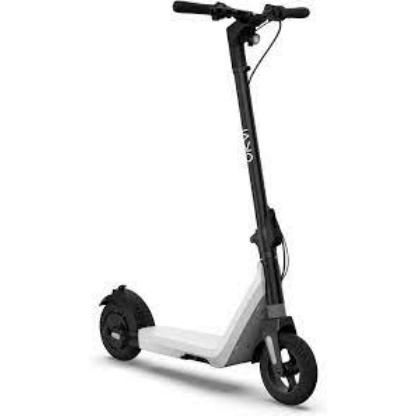bike: (97, 3, 320, 409)
